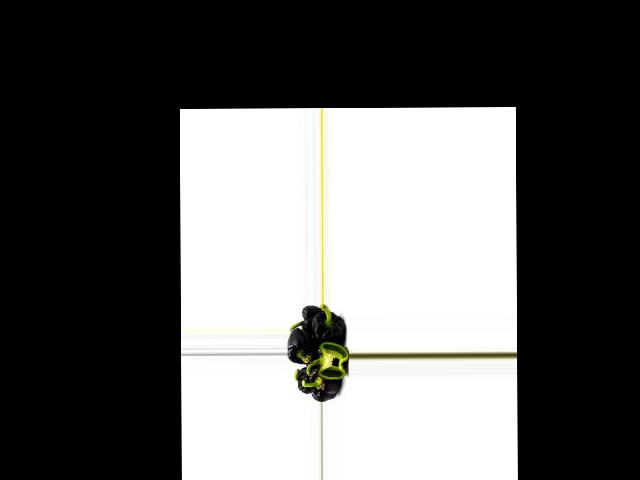bell_pepper: (309, 361, 339, 401)
